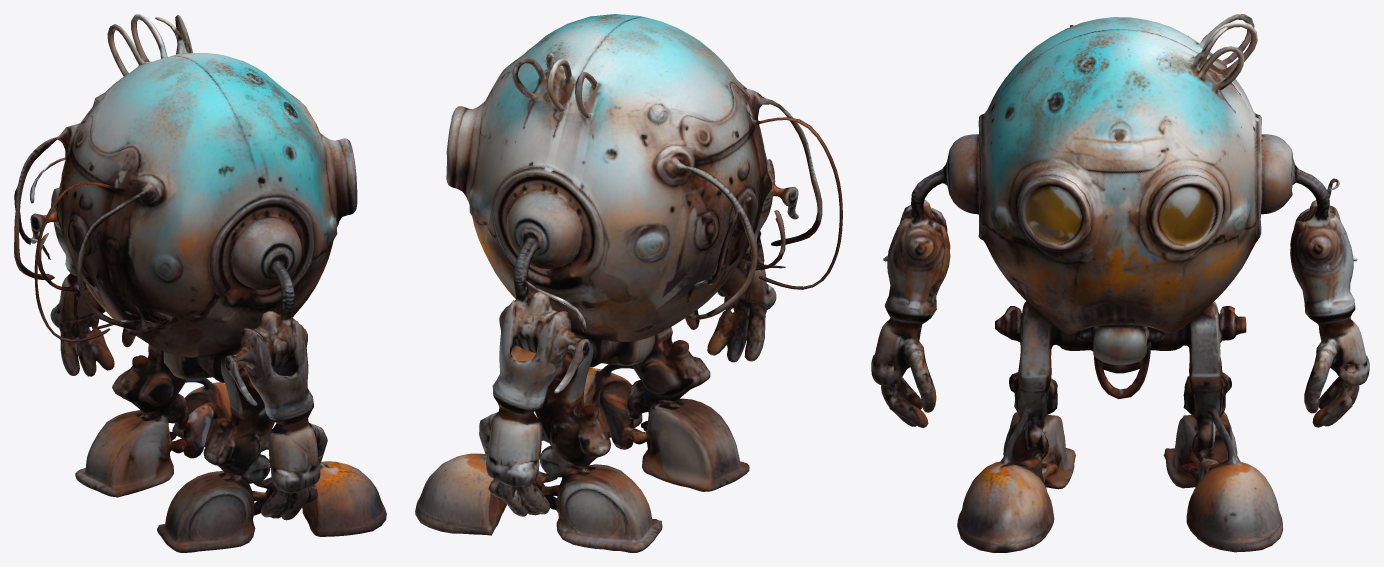
The model's file is robot palla.glb.
3 views of the same model, side by side, from view 1: azimuth 30°, elevation 25°; view 2: azimuth 150°, elevation 25°; view 3: azimuth 270°, elevation 25° (orthographic). The views are drawn at different scales.
Parts seen in each view (by area): view 1: tripo_node_120bffe4-361a-4664-ac14-c92020108134; view 2: tripo_node_120bffe4-361a-4664-ac14-c92020108134; view 3: tripo_node_120bffe4-361a-4664-ac14-c92020108134.
Boxes of the visible parts, left/top/right/bottom form: tripo_node_120bffe4-361a-4664-ac14-c92020108134: left=14, top=14, right=386, bottom=552; tripo_node_120bffe4-361a-4664-ac14-c92020108134: left=415, top=14, right=842, bottom=552; tripo_node_120bffe4-361a-4664-ac14-c92020108134: left=871, top=14, right=1369, bottom=552.
Bounding box in the file's own units: 0.7104 × 0.9461 × 0.9127.
Materials: 1 (1 with a texture image).
